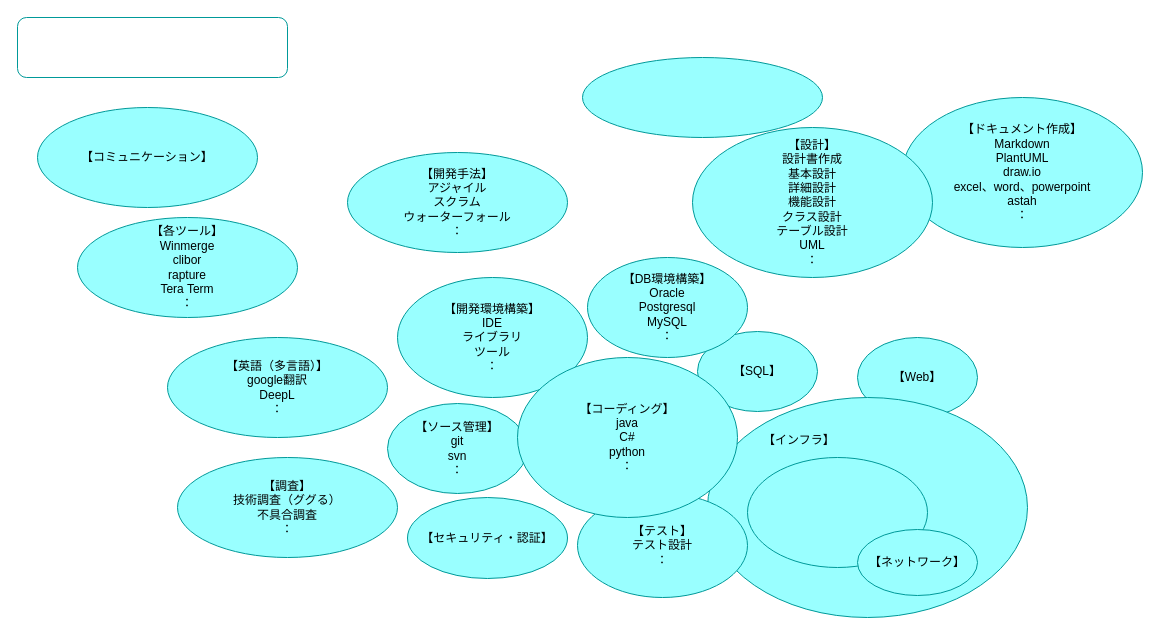
Image size: 1160x635. Some labels were removed from this diagram. Here are the shapes that lost their labels. From the top down, the box of each, then its label:
(16, 16, 288, 78): システム開発に関連するスキル
(582, 56, 822, 138): 【要件定義】
(746, 456, 928, 568): 【実行環境構築】 Webサーバ Linux AWS Docker ：
